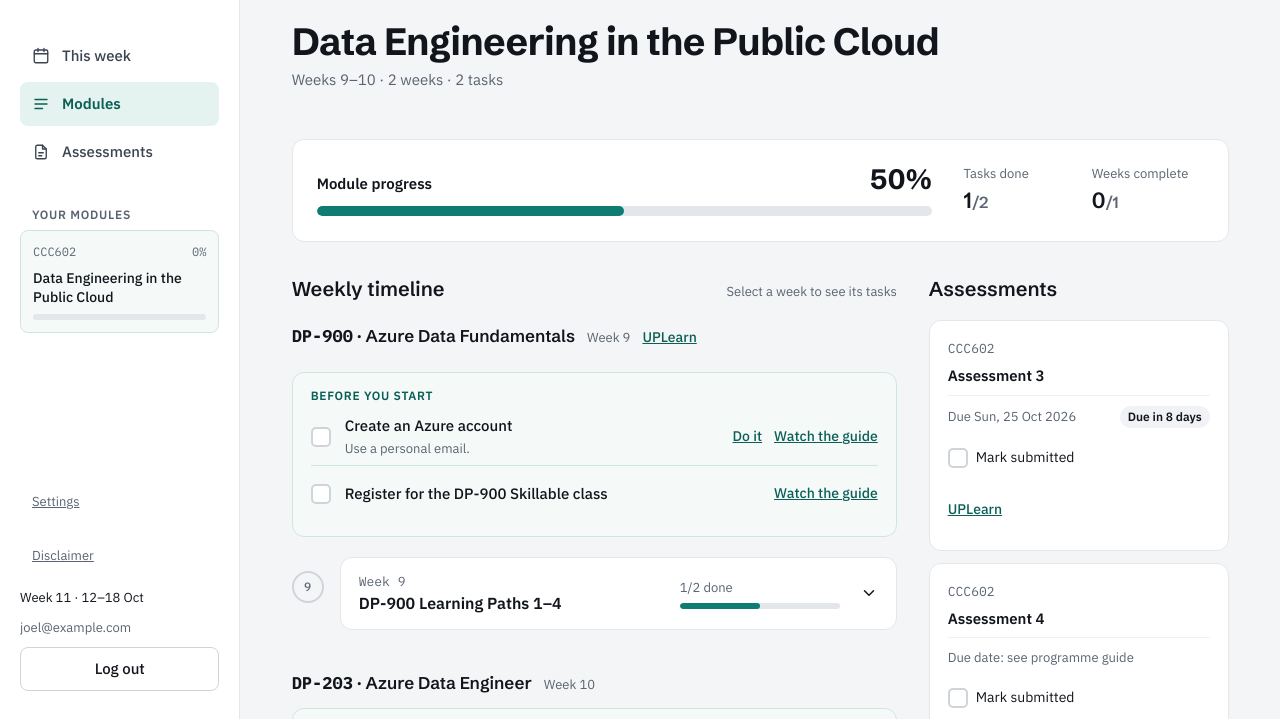
Test case: ModulePage › starts with weeks collapsed and opens one at a time
expect the heading "Data Engineering in the Public Cloud" is shown: met, box [292,18,939,65]
expect the text "DP-900 LP1" is not shown: met
Click the button "Week 9 DP-900 Learning Paths 1–4 1/2 done" at (378, 581), box [341,558,896,629]
(page scrolled)
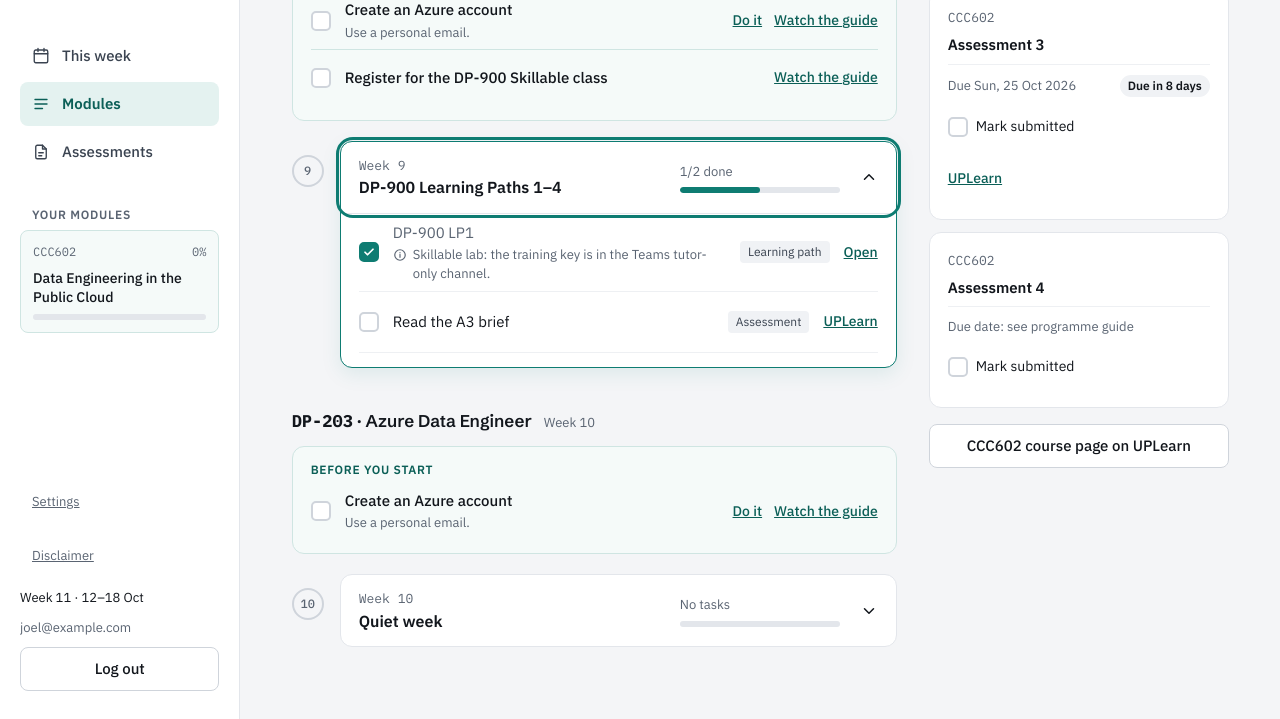
expect the button "Week 9 DP-900 Learning Paths 1–4 1/2 done" is expanded: met, box [341,142,896,213]
expect the text "DP-900 LP1" is shown: met, box [393,223,474,242]
Click the button "Week 10 Quiet week No tasks" at (378, 599), box [341,575,896,646]
(page scrolled)
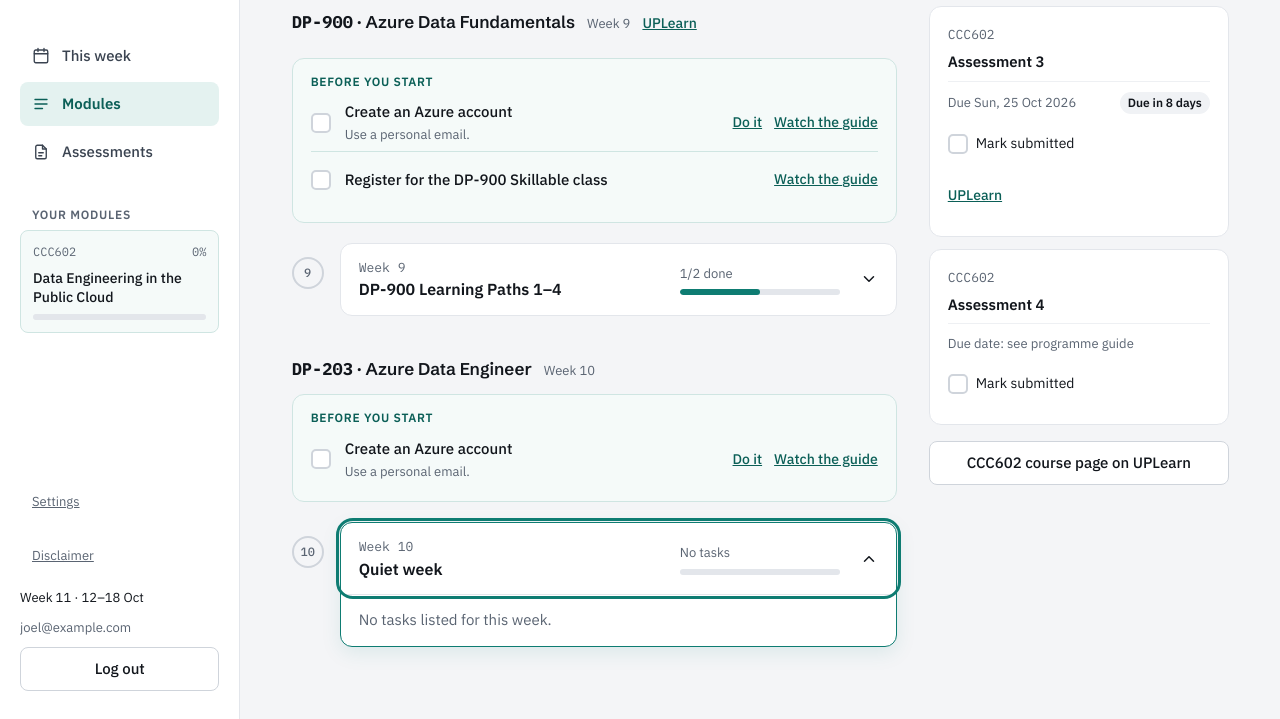
expect the button "Week 9 DP-900 Learning Paths 1–4 1/2 done" is collapsed: met, box [341,244,896,315]
expect the button "Week 10 Quiet week No tasks" is expanded: met
expect the text "DP-900 LP1" is gone: met
Click the button "Week 10 Quiet week No tasks" at (378, 547), box [341,523,896,594]
(page scrolled)
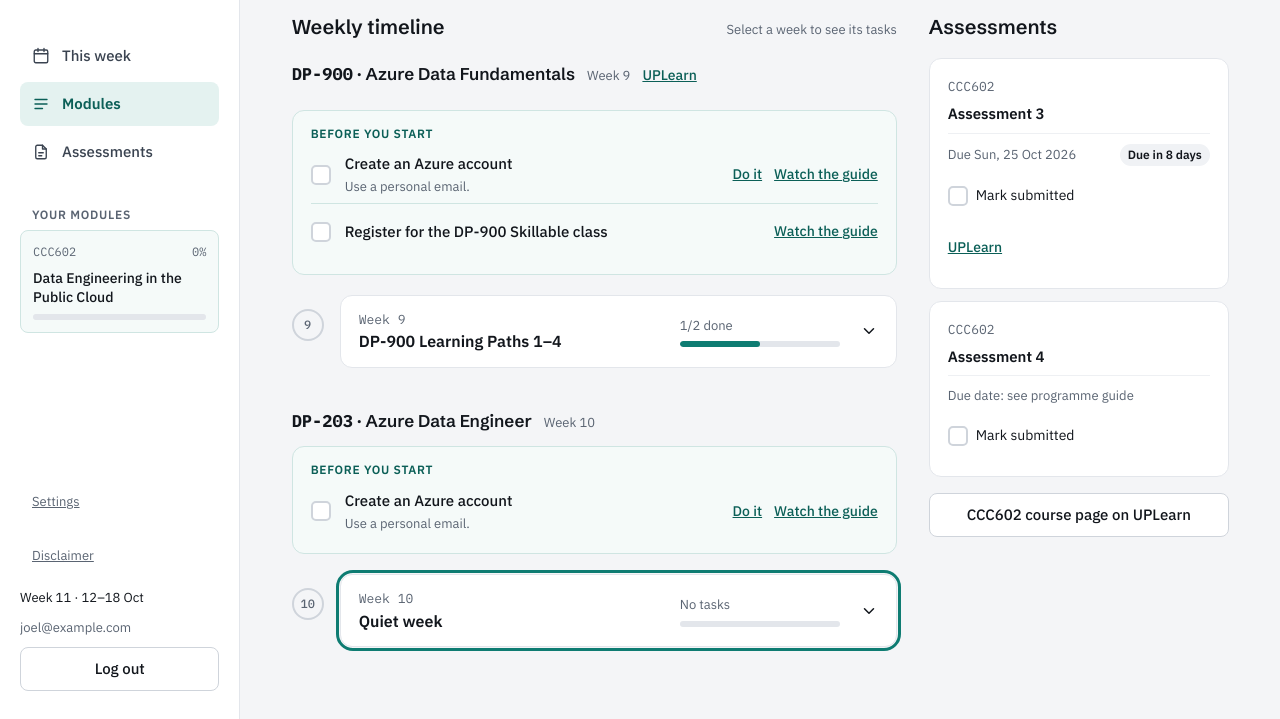
expect the button "Week 10 Quiet week No tasks" is collapsed: met, box [341,575,896,646]
